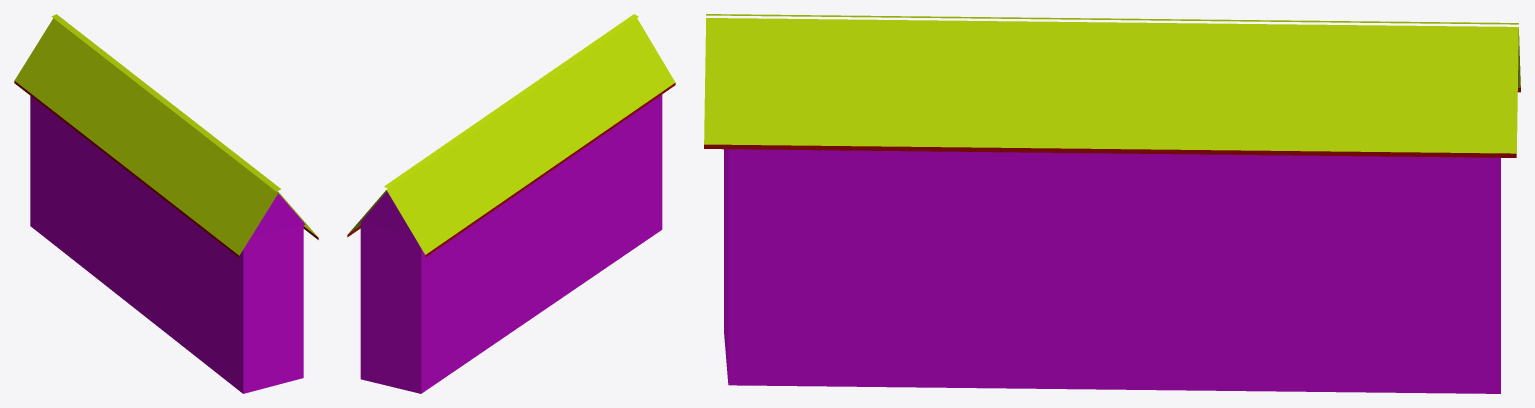
The model's file is scl_113.glb.
3 views of the same model, side by side, from view 1: azimuth 30°, elevation 25°; view 2: azimuth 150°, elevation 25°; view 3: azimuth 270°, elevation 25° (orthographic). The views are drawn at different scales.
Visible parts, largest first — view 1: scl_113; view 2: scl_113; view 3: scl_113.
Part boxes in pixels (x1,y1,x2,y2): scl_113: (14,14,318,393); scl_113: (347,14,675,393); scl_113: (704,14,1520,393).
Size of the model in its own units: 4.32 by 9.34 by 19.99.
